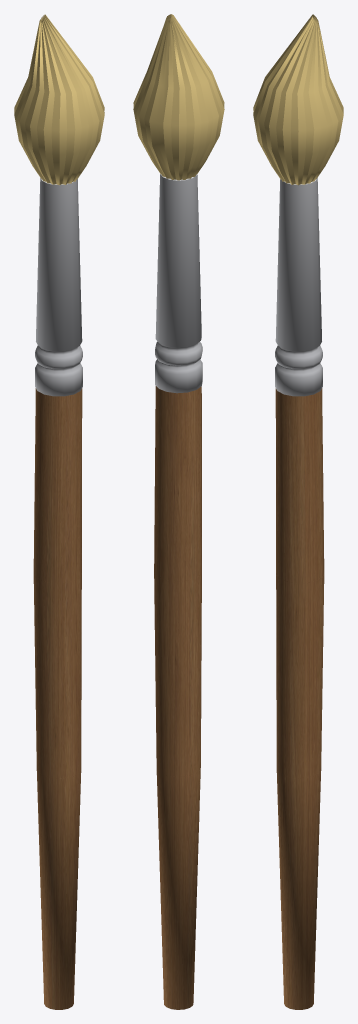
Rendered from píncel.fbx.
3 views of the same model, side by side, from view 1: azimuth 90°, elevation 25°; view 2: azimuth 150°, elevation 25°; view 3: azimuth 270°, elevation 25° (orthographic).
Visible parts, largest first — view 1: Cylinder; view 2: Cylinder; view 3: Cylinder.
Part boxes in pixels (<box>): Cylinder: <box>14,14,104,1009</box>; Cylinder: <box>133,14,224,1009</box>; Cylinder: <box>253,14,343,1009</box>.
Size of the model in its own units: 146 by 1734 by 144.
